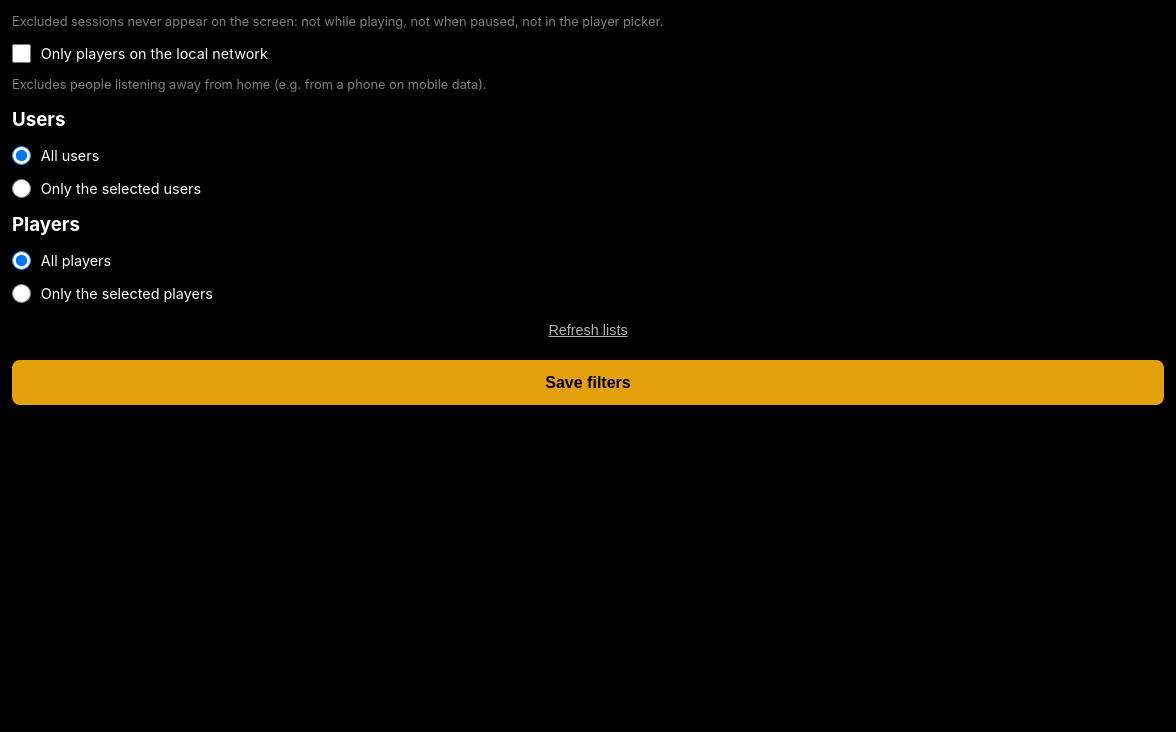
Test: FiltersForm › empty lists mean "all"; the checkboxes appear only when restricting
Check: the field labelled "Anna" is not shown
Click the radio button labelled "Only the selected users" at (22, 188), box [12, 179, 31, 198]
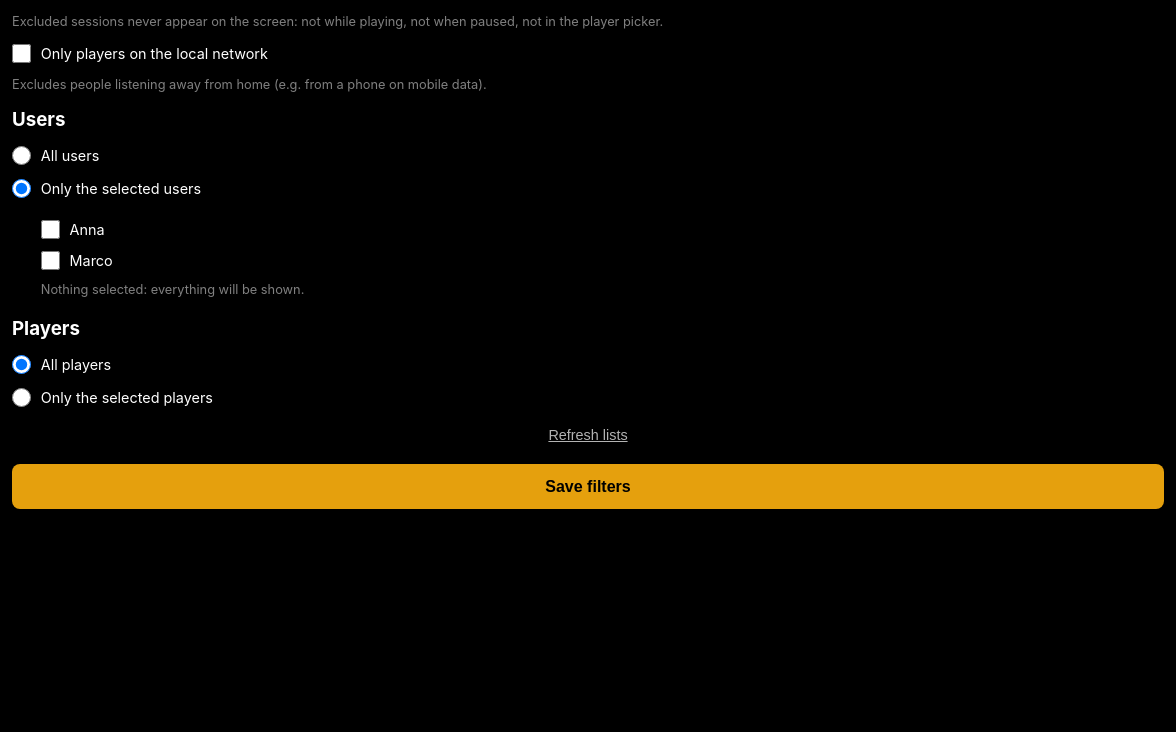
Check: the checkbox labelled "Anna" is shown, box [41, 220, 60, 239]
